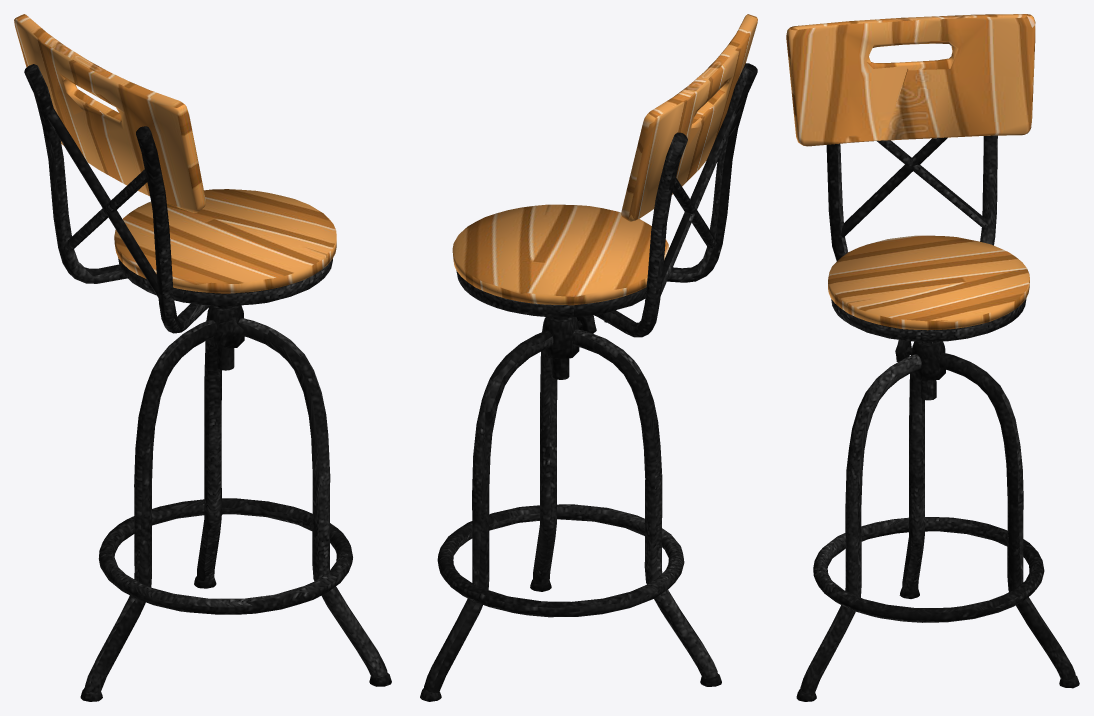
File: silla.fbx
The picture shows the model from 3 angles, left to right: view 1: azimuth 30°, elevation 25°; view 2: azimuth 150°, elevation 25°; view 3: azimuth 270°, elevation 25°; orthographic projection. The views are drawn at different scales.
Visible parts, largest first — view 1: Bar_Stool; view 2: Bar_Stool; view 3: Bar_Stool.
Boxes of the visible parts, x1,y1,x2,y2 form: Bar_Stool: (14,14,391,701); Bar_Stool: (420,14,757,701); Bar_Stool: (786,14,1079,701).
Size of the model in its own units: 859 by 1898 by 873.
Materials: 2 (2 with a texture image).
